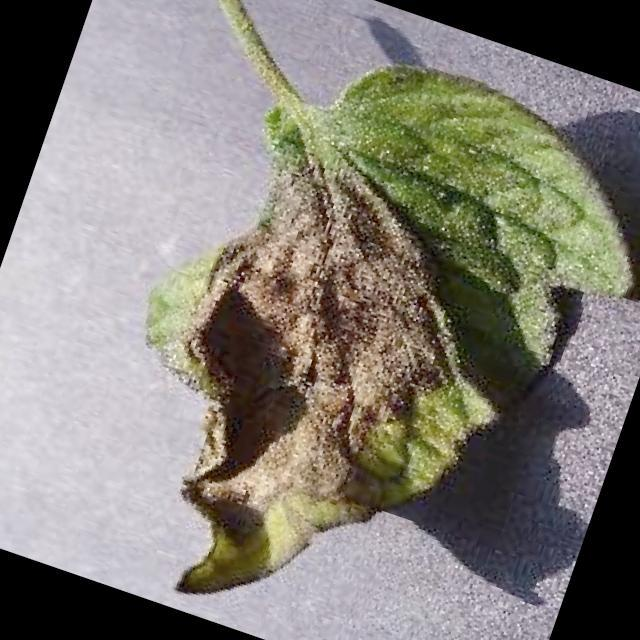Tomato late blight leaf: (61, 2, 640, 640)
